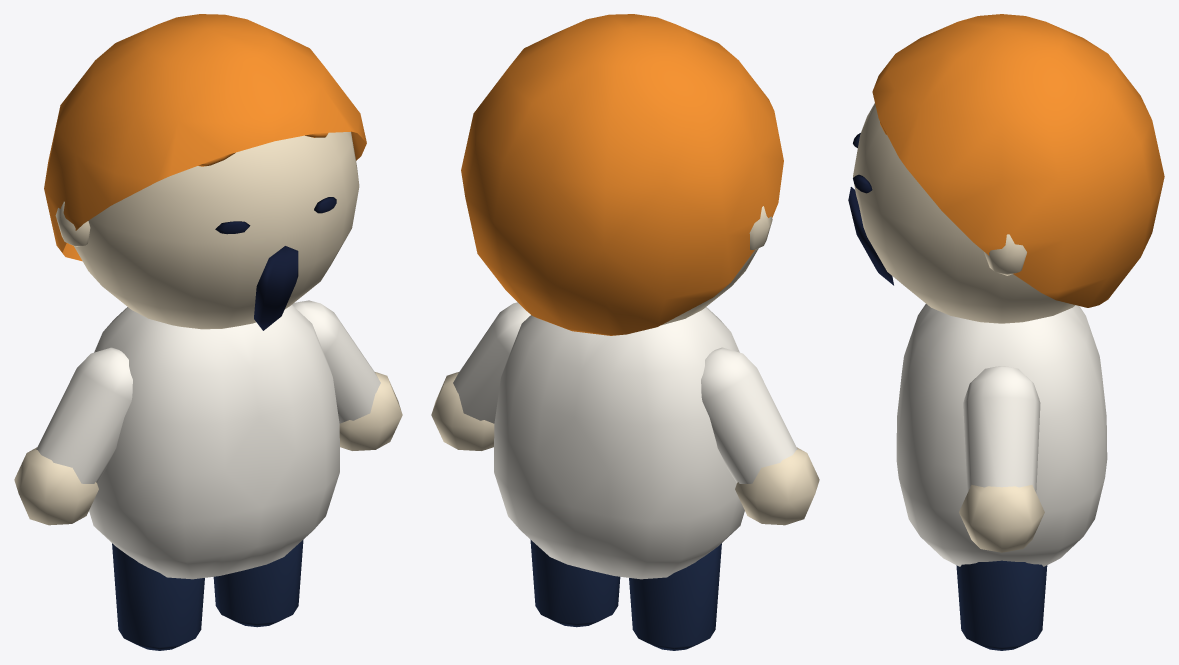
The model's file is Crew_Controller_B.glb.
The picture shows the model from 3 angles, left to right: view 1: azimuth 30°, elevation 25°; view 2: azimuth 150°, elevation 25°; view 3: azimuth 270°, elevation 25°; orthographic projection.
Visible parts, largest first — view 1: Crew_Controller_B.Head, Crew_Controller_B.Torso, Crew_Controller_B.Arm_R, Crew_Controller_B.Legs, Crew_Controller_B.Arm_L, Crew_Controller_B.Face; view 2: Crew_Controller_B.Head, Crew_Controller_B.Torso, Crew_Controller_B.Arm_R, Crew_Controller_B.Legs, Crew_Controller_B.Arm_L; view 3: Crew_Controller_B.Head, Crew_Controller_B.Torso, Crew_Controller_B.Arm_L, Crew_Controller_B.Legs, Crew_Controller_B.Face.
Boxes of the visible parts, x1,y1,x2,y2 form: Crew_Controller_B.Head: (44, 14, 366, 329); Crew_Controller_B.Torso: (89, 305, 339, 579); Crew_Controller_B.Arm_R: (14, 347, 132, 525); Crew_Controller_B.Legs: (112, 539, 303, 650); Crew_Controller_B.Arm_L: (292, 300, 402, 450); Crew_Controller_B.Face: (198, 133, 336, 330); Crew_Controller_B.Head: (461, 14, 783, 335); Crew_Controller_B.Torso: (494, 307, 744, 579); Crew_Controller_B.Arm_R: (701, 347, 819, 525); Crew_Controller_B.Legs: (530, 539, 721, 650); Crew_Controller_B.Arm_L: (431, 302, 530, 450); Crew_Controller_B.Head: (853, 14, 1164, 323); Crew_Controller_B.Torso: (896, 304, 1107, 566); Crew_Controller_B.Arm_L: (959, 366, 1044, 552); Crew_Controller_B.Legs: (956, 560, 1047, 650); Crew_Controller_B.Face: (848, 122, 893, 285).
Bounding box in the file's own units: 0.7797 × 1.18 × 0.5733.
Materials: 1 (1 with a texture image).
